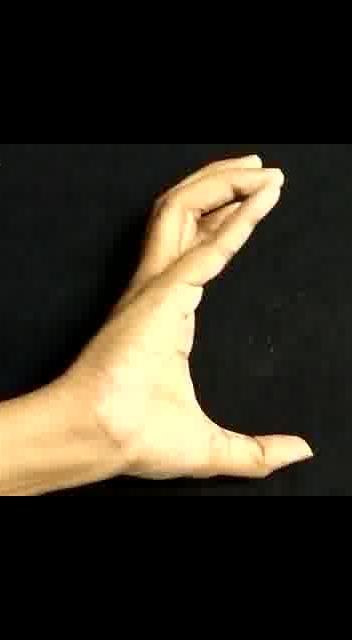padamkosh: (80, 147, 326, 496)
